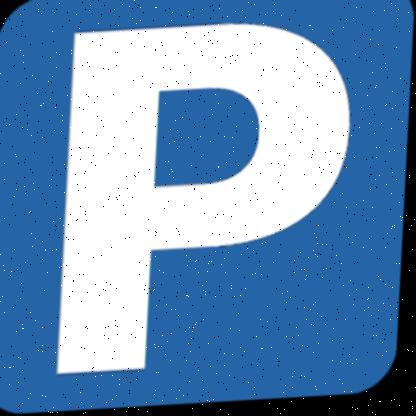Parking: (0, 0, 416, 414)
